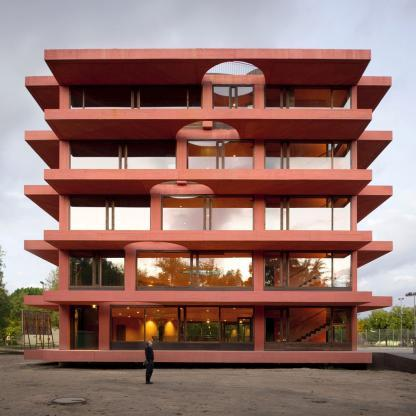Building Outline: (24, 49, 392, 363)
Dont: (143, 340, 154, 384)
Door: (70, 305, 99, 350)
Door Hole: (68, 305, 99, 350)
Facade: (59, 49, 357, 363)
Floor: (59, 137, 357, 186), (59, 192, 357, 241), (59, 247, 357, 296)
Floor Slab: (25, 296, 393, 303), (25, 186, 393, 192), (25, 132, 393, 138), (25, 242, 393, 248)
Ground Floor: (59, 303, 357, 363)
Top Floor: (59, 75, 357, 131)
Window: (110, 306, 255, 351), (136, 250, 254, 291), (264, 306, 352, 352), (263, 250, 352, 291), (161, 195, 254, 231), (69, 140, 177, 170), (264, 195, 353, 231), (69, 85, 202, 108), (69, 195, 151, 231), (264, 140, 353, 170), (186, 140, 254, 170), (264, 85, 352, 108), (212, 85, 254, 108)
